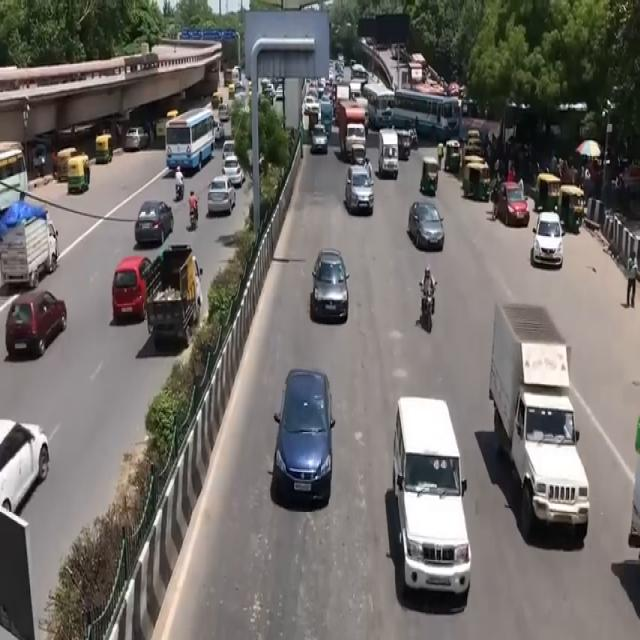BUS: (392, 89, 461, 141), (169, 108, 219, 174)
MOTORCYCLE: (421, 287, 436, 336)
SED: (272, 362, 334, 515)
TRUCK: (497, 306, 591, 546), (146, 248, 200, 348), (0, 203, 57, 288)
